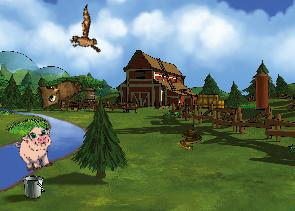eagle: (57, 4, 113, 63)
owl: (31, 65, 85, 114)
pig: (12, 124, 60, 174)
